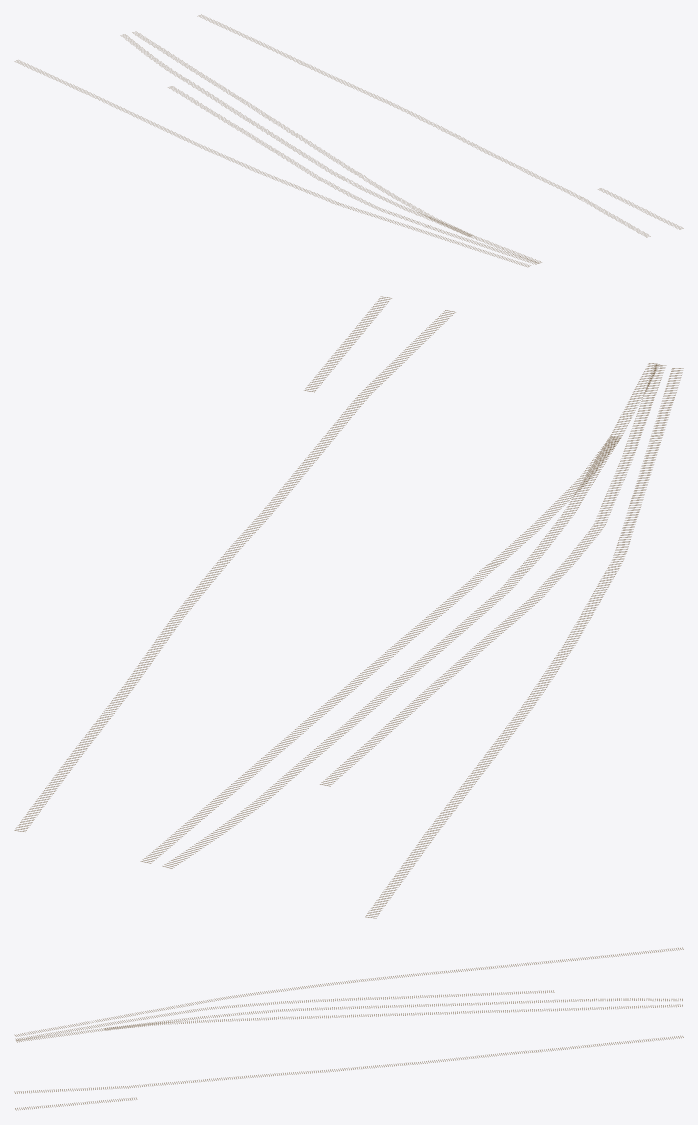
File: c_1630_17819_rail_sleeper.glb
3 views of the same model, one above another, from view 1: azimuth 30°, elevation 25°; view 2: azimuth 150°, elevation 25°; view 3: azimuth 270°, elevation 25° (orthographic). The views are drawn at different scales.
Visible parts, largest first — view 1: geometry_0; view 2: geometry_0; view 3: geometry_0.
Part boxes in pixels (x1,y1,x2,y2): geometry_0: (14, 14, 683, 267); geometry_0: (14, 296, 683, 918); geometry_0: (14, 947, 683, 1110).
Bounding box in the file's own units: 146 × 1.09 × 257.
